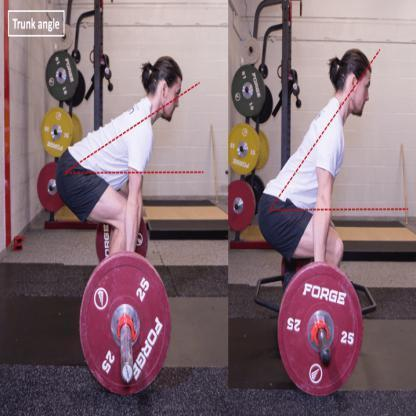barbell: (79, 252, 171, 395), (278, 264, 361, 397), (231, 65, 275, 122), (46, 51, 85, 107), (41, 110, 85, 158), (230, 126, 269, 177), (228, 180, 262, 228)
